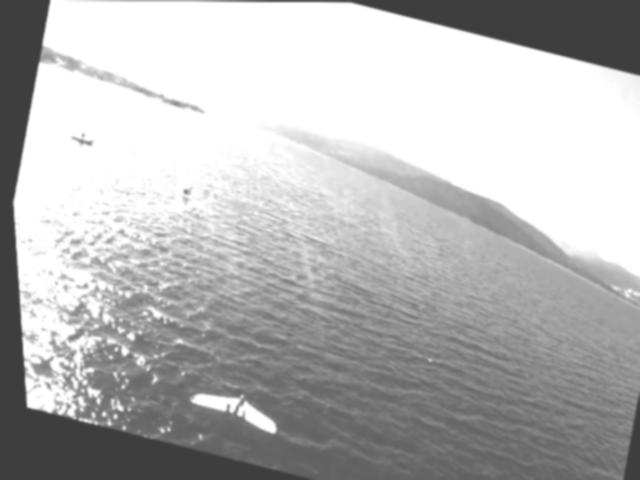hedef: (169, 370, 284, 455)
